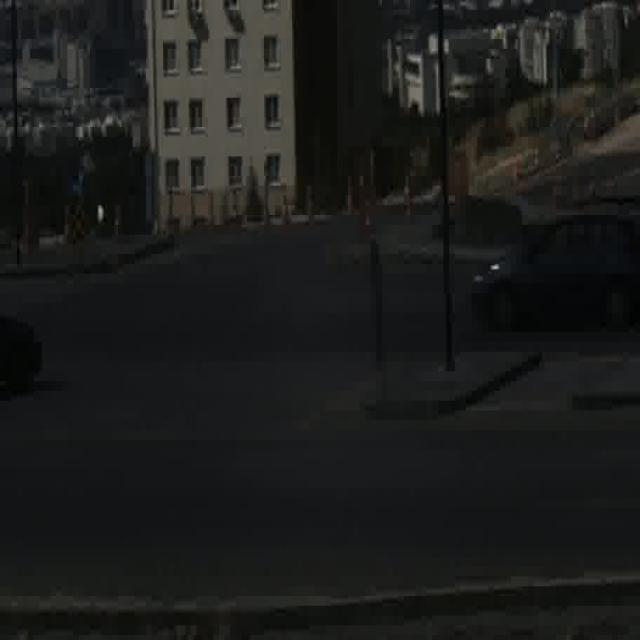Car: (471, 215, 640, 342), (0, 313, 47, 402)
